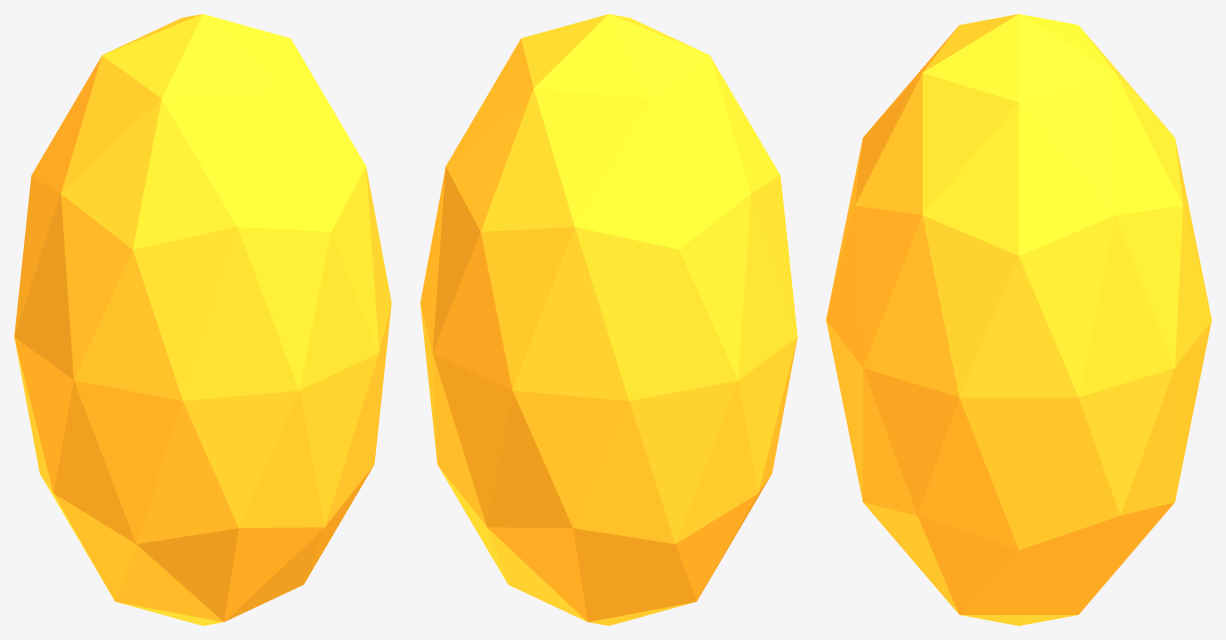
The picture shows the model from 3 angles, left to right: view 1: azimuth 30°, elevation 25°; view 2: azimuth 150°, elevation 25°; view 3: azimuth 270°, elevation 25°; orthographic projection.
Parts seen in each view (by area): view 1: Golden nectar drop; view 2: Golden nectar drop; view 3: Golden nectar drop.
Part boxes in pixels (<box>): Golden nectar drop: <box>14,14,391,625</box>; Golden nectar drop: <box>420,14,797,625</box>; Golden nectar drop: <box>826,14,1211,625</box>.
Size of the model in its own units: 0.3652 by 0.672 by 0.384.
